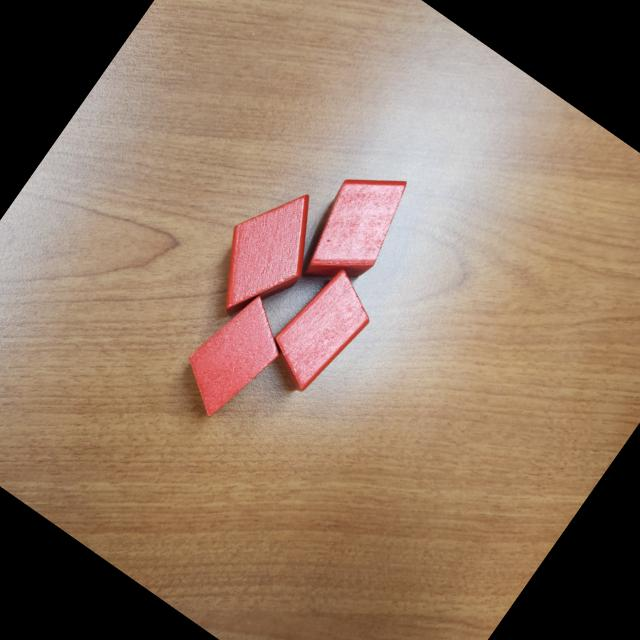red: (185, 167, 342, 339), (286, 150, 425, 304), (163, 280, 301, 432), (254, 257, 386, 404)
